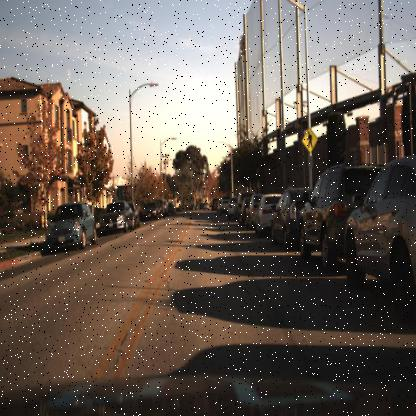car: (345, 154, 415, 310), (295, 161, 350, 280), (40, 194, 98, 262), (267, 190, 299, 253), (98, 195, 132, 241), (254, 192, 274, 247), (244, 192, 259, 234), (139, 200, 159, 227), (128, 194, 140, 237)
